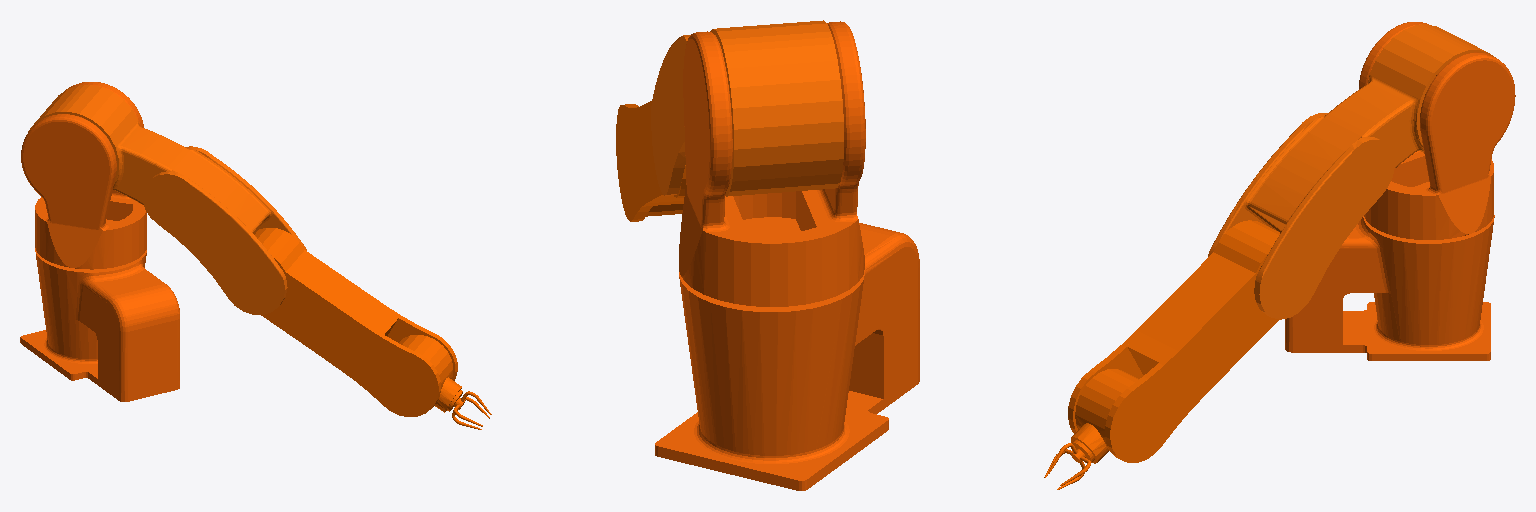
URDF robot description (3 DOF robot):
<?xml version="1.0" encoding="utf-8"?>
<!-- This URDF was automatically created by SolidWorks to URDF Exporter! Originally created by [author] ([email redacted]) 
     Commit Version: 1.6.0-4-g7f85cfe  Build Version: 1.6.7995.38578
     For more information, please see http://wiki.ros.org/sw_urdf_exporter -->
<robot
  name="3 DOF robot">
  <link
    name="base_link">
    <inertial>
      <origin
        xyz="-2.02135920779334E-08 -0.0424542310714352 0.082366634701649"
        rpy="0 0 0" />
      <mass
        value="3.88752469233175" />
      <inertia
        ixx="0.0268289837309763"
        ixy="-2.89339990489956E-09"
        ixz="2.89477847113592E-09"
        iyy="0.0128847947303088"
        iyz="-0.000935194537012237"
        izz="0.0230574349994242" />
    </inertial>
    <visual>
      <origin
        xyz="0 0 0"
        rpy="0 0 0" />
      <geometry>
        <mesh
          filename="meshes/base_link.STL" />
      </geometry>
      <material
        name="">
        <color
          rgba="1 0.43921568627451 0.0588235294117647 1" />
      </material>
    </visual>
    <collision>
      <origin
        xyz="0 0 0"
        rpy="0 0 0" />
      <geometry>
        <mesh
          filename="meshes/base_link.STL" />
      </geometry>
    </collision>
  </link>
  <link
    name="L1">
    <inertial>
      <origin
        xyz="-0.00277913016529832 0.00330439293749063 0.0942358661678581"
        rpy="0 0 0" />
      <mass
        value="1.63775424307342" />
      <inertia
        ixx="0.0104646256475886"
        ixy="-0.000803066400411467"
        ixz="0.000376183271453994"
        iyy="0.0107440473072365"
        iyz="-0.000447285933070375"
        izz="0.00670627003396277" />
    </inertial>
    <visual>
      <origin
        xyz="0 0 0"
        rpy="0 0 0" />
      <geometry>
        <mesh
          filename="meshes/L1.STL" />
      </geometry>
      <material
        name="">
        <color
          rgba="1 0.43921568627451 0.0588235294117647 1" />
      </material>
    </visual>
    <collision>
      <origin
        xyz="0 0 0"
        rpy="0 0 0" />
      <geometry>
        <mesh
          filename="meshes/L1.STL" />
      </geometry>
    </collision>
  </link>
  <joint
    name="J1"
    type="revolute">
    <origin
      xyz="0 0 0.15"
      rpy="0 0 0" />
    <parent
      link="base_link" />
    <child
      link="L1" />
    <axis
      xyz="0 0 1" />
    <limit
      lower="0"
      upper="0"
      effort="0"
      velocity="0" />
  </joint>
  <link
    name="L2">
    <inertial>
      <origin
        xyz="-0.0908754050928586 -0.0330819360872218 -2.18157175657652E-08"
        rpy="0 0 0" />
      <mass
        value="3.25574342972364" />
      <inertia
        ixx="0.0114799826485523"
        ixy="-0.0125787511681212"
        ixz="-1.30251394665597E-08"
        iyy="0.036018244373043"
        iyz="-5.74242605029247E-09"
        izz="0.0419730807910722" />
    </inertial>
    <visual>
      <origin
        xyz="0 0 0"
        rpy="0 0 0" />
      <geometry>
        <mesh
          filename="meshes/L2.STL" />
      </geometry>
      <material
        name="">
        <color
          rgba="1 0.470588235294118 0.0588235294117647 1" />
      </material>
    </visual>
    <collision>
      <origin
        xyz="0 0 0"
        rpy="0 0 0" />
      <geometry>
        <mesh
          filename="meshes/L2.STL" />
      </geometry>
    </collision>
  </link>
  <joint
    name="J2"
    type="revolute">
    <origin
      xyz="-0.0081505 0.009691 0.17151"
      rpy="1.5708 0 2.2701" />
    <parent
      link="L1" />
    <child
      link="L2" />
    <axis
      xyz="0 0 1" />
    <limit
      lower="0"
      upper="0"
      effort="0"
      velocity="0" />
  </joint>
  <link
    name="L3">
    <inertial>
      <origin
        xyz="-0.109875188346083 -0.0609864899139261 -4.43842862463129E-08"
        rpy="0 0 0" />
      <mass
        value="2.27512400134234" />
      <inertia
        ixx="0.00787199062290968"
        ixy="-0.0094726178549428"
        ixz="-1.26349934299885E-08"
        iyy="0.0196664667904448"
        iyz="-6.75234229751576E-09"
        izz="0.025048186026334" />
    </inertial>
    <visual>
      <origin
        xyz="0 0 0"
        rpy="0 0 0" />
      <geometry>
        <mesh
          filename="meshes/L3.STL" />
      </geometry>
      <material
        name="">
        <color
          rgba="1 0.454901960784314 0.0274509803921569 1" />
      </material>
    </visual>
    <collision>
      <origin
        xyz="0 0 0"
        rpy="0 0 0" />
      <geometry>
        <mesh
          filename="meshes/L3.STL" />
      </geometry>
    </collision>
  </link>
  <joint
    name="J3"
    type="revolute">
    <origin
      xyz="-0.27707 -0.15376 0"
      rpy="0 0 0" />
    <parent
      link="L2" />
    <child
      link="L3" />
    <axis
      xyz="0 0 -1" />
    <limit
      lower="0"
      upper="0"
      effort="0"
      velocity="0" />
  </joint>
</robot>

--- What the picture shows (computed from the rendered views, not written in the file) ---
Views: 3 orthographic renders of the robot side by side, from view 1: azimuth 30°, elevation 25°; view 2: azimuth 150°, elevation 25°; view 3: azimuth 270°, elevation 25°.
Model 3 DOF robot with 4 links and 3 joints (3 revolute), rooted at base_link, posed all joints at 0.
Links seen in each view (by area): view 1: L2, L3, base_link, L1; view 2: base_link, L1, L2, L3; view 3: L2, L3, base_link, L1.
Link boxes in pixels (x1=…): L2: x1=28, y1=85, x2=306, y2=314; L3: x1=253, y1=228, x2=491, y2=429; base_link: x1=20, y1=248, x2=179, y2=401; L1: x1=21, y1=82, x2=146, y2=269; base_link: x1=655, y1=223, x2=919, y2=490; L1: x1=679, y1=21, x2=865, y2=306; L2: x1=651, y1=20, x2=843, y2=196; L3: x1=616, y1=101, x2=686, y2=221; L2: x1=1208, y1=24, x2=1495, y2=319; L3: x1=1044, y1=220, x2=1279, y2=489; base_link: x1=1285, y1=215, x2=1494, y2=360; L1: x1=1359, y1=22, x2=1515, y2=239.
Size in the robot's own frame: 0.5007 by 0.5734 by 0.4246 metres.
4 mesh visuals loaded from 4 distinct referenced files (4 binary STL).